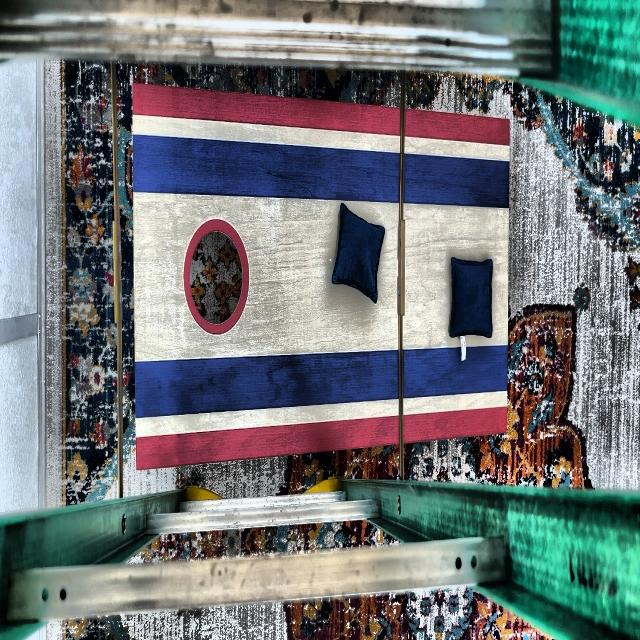blue-bean-bag: (331, 202, 385, 304), (448, 256, 494, 339)
board: (136, 120, 507, 433)
hole: (184, 218, 249, 334)
